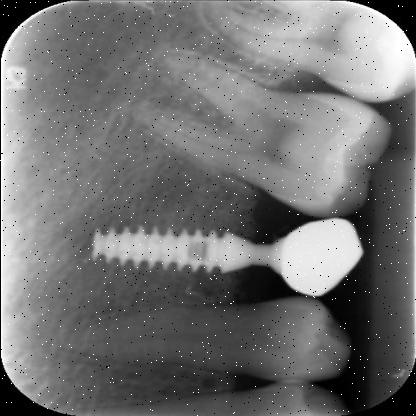Bicon: (89, 220, 234, 279)
